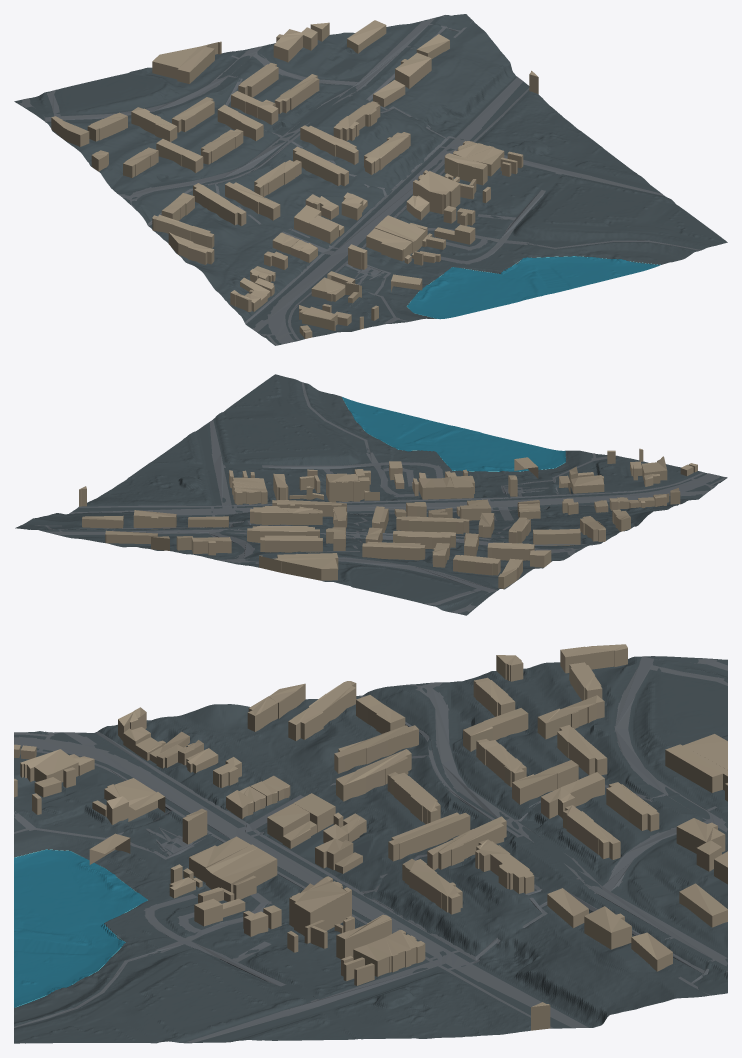
Rendered from epsg26910-1445-10875.lod0.glb.
3 renders of one model, top to bottom at view 1: azimuth 30°, elevation 25°; view 2: azimuth 150°, elevation 25°; view 3: azimuth 270°, elevation 25°, orthographic. The views are drawn at different scales.
Visible parts, largest first — view 1: epsg26910-1445-10875-lod0; view 2: epsg26910-1445-10875-lod0; view 3: epsg26910-1445-10875-lod0.
Boxes of the visible parts, x1=… form: epsg26910-1445-10875-lod0: x1=14, y1=14, x2=727, y2=345; epsg26910-1445-10875-lod0: x1=15, y1=374, x2=727, y2=615; epsg26910-1445-10875-lod0: x1=14, y1=644, x2=727, y2=1043.
Bounding box in the file's own units: 384 × 64.96 × 384.
